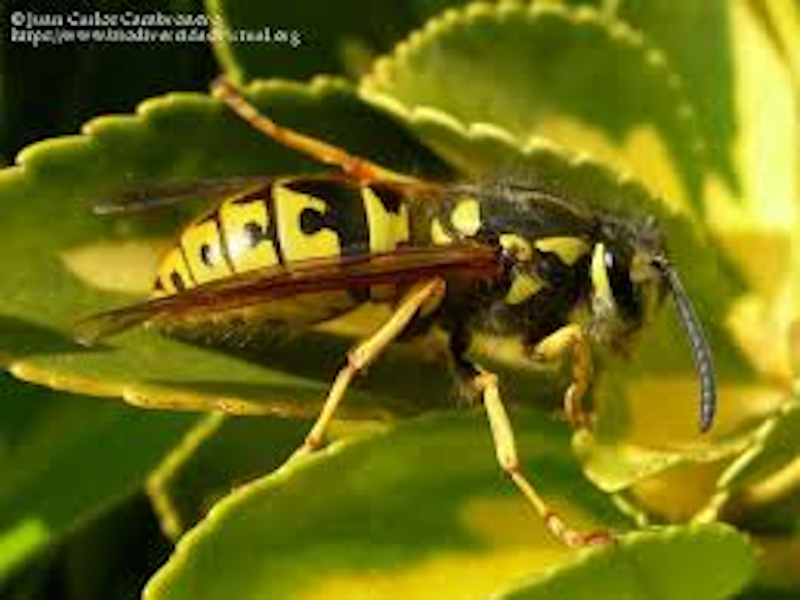chax: (73, 136, 731, 534)
